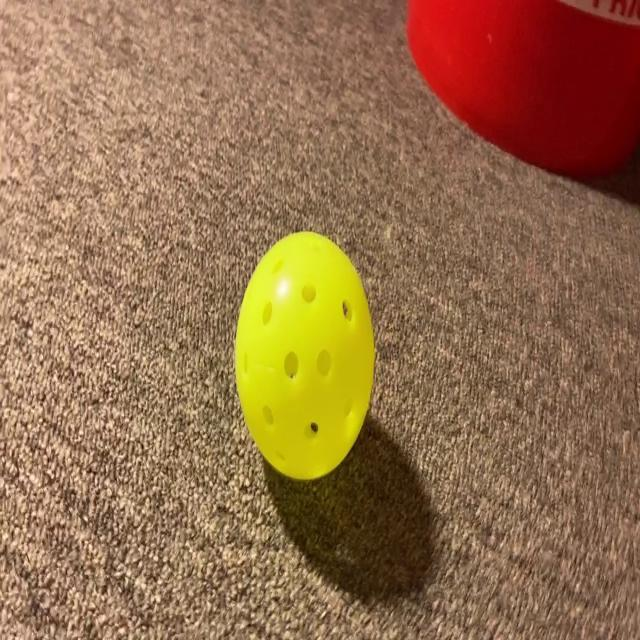ball: (219, 221, 387, 463)
